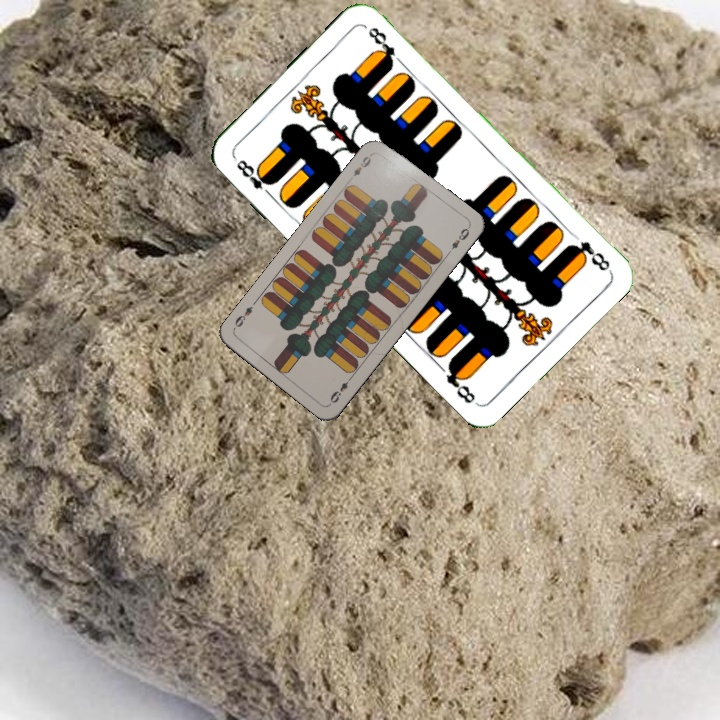E8: (229, 153, 277, 200), (564, 237, 613, 274)
E9: (346, 149, 376, 183), (326, 372, 355, 406)
